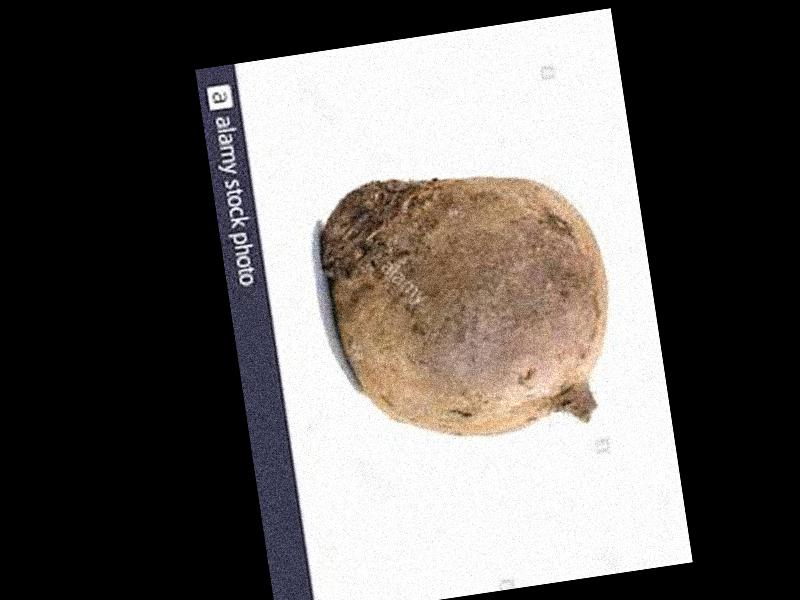Beet: (312, 151, 626, 458)
